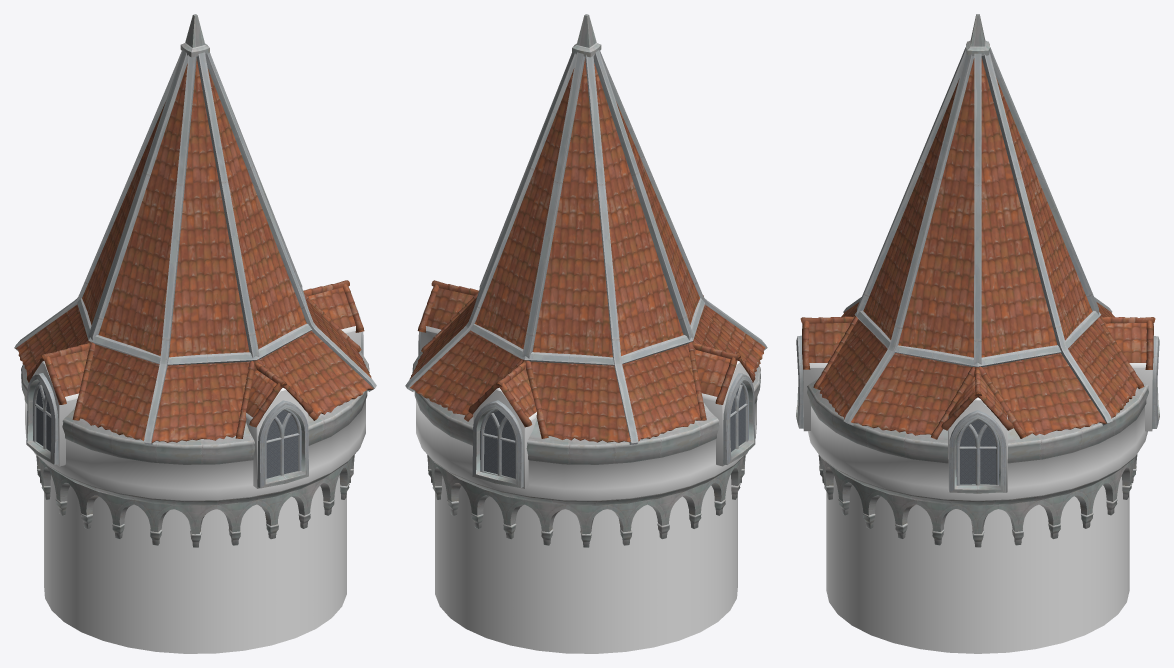
File: SM_TowerA_Top_03_Window.fbx
3 renders of one model, left to right at view 1: azimuth 30°, elevation 25°; view 2: azimuth 150°, elevation 25°; view 3: azimuth 270°, elevation 25°, orthographic.
Parts seen in each view (by area): view 1: SM_TowerA_Top_03_Window_LOD0; view 2: SM_TowerA_Top_03_Window_LOD0; view 3: SM_TowerA_Top_03_Window_LOD0.
Part boxes in pixels (box(x1,y1,x2,y2)): SM_TowerA_Top_03_Window_LOD0: box(14, 14, 376, 653); SM_TowerA_Top_03_Window_LOD0: box(405, 14, 767, 653); SM_TowerA_Top_03_Window_LOD0: box(796, 14, 1159, 653).
Size of what is drawn, in the model's own units: 9.59 by 16.72 by 9.59.
